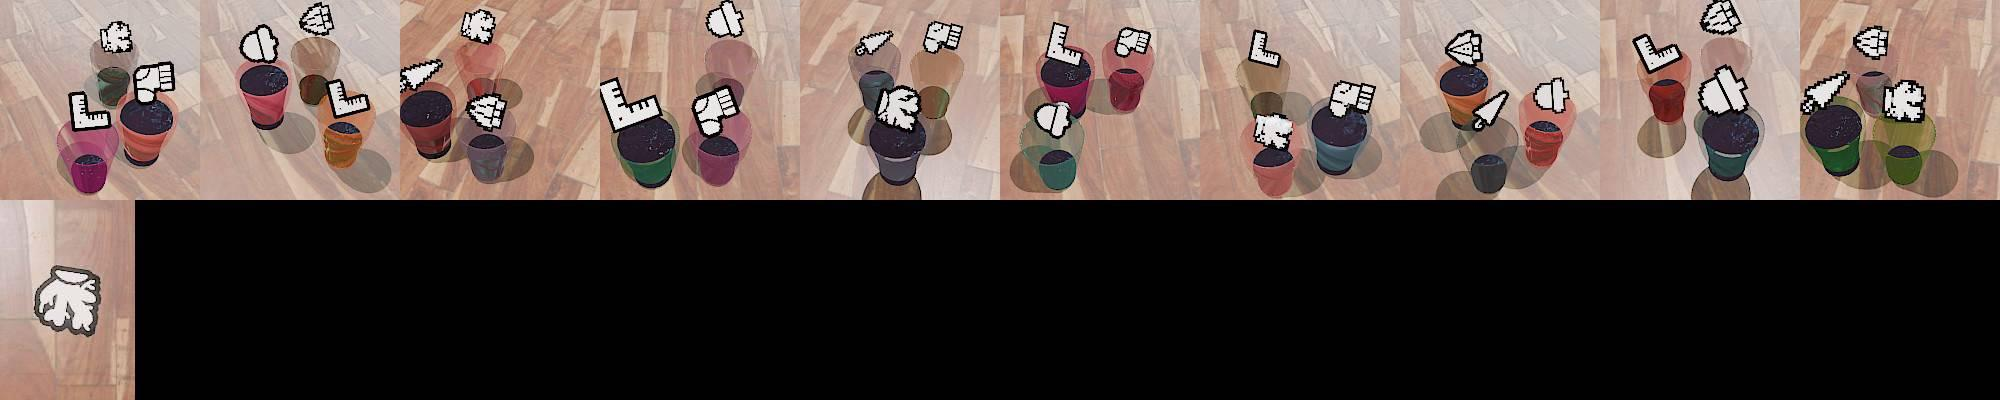icon: (33, 264, 101, 339), (596, 77, 664, 133), (1698, 64, 1751, 116), (691, 84, 740, 136), (1800, 70, 1850, 117), (874, 84, 922, 131), (1042, 19, 1087, 69), (1882, 78, 1928, 123), (1633, 32, 1683, 73), (1328, 76, 1376, 118), (67, 89, 112, 132), (324, 78, 371, 119), (1469, 87, 1510, 132), (132, 61, 175, 102), (239, 23, 280, 64), (399, 58, 443, 96), (465, 92, 508, 130), (1253, 112, 1294, 151), (1035, 100, 1075, 139), (1699, 0, 1742, 36), (922, 19, 964, 55), (705, 1, 744, 39), (1445, 28, 1485, 65), (1247, 28, 1282, 69), (458, 8, 496, 45), (298, 1, 335, 38), (1533, 75, 1568, 113), (1853, 26, 1889, 60), (1115, 26, 1153, 58), (854, 29, 895, 58), (100, 21, 134, 55)
